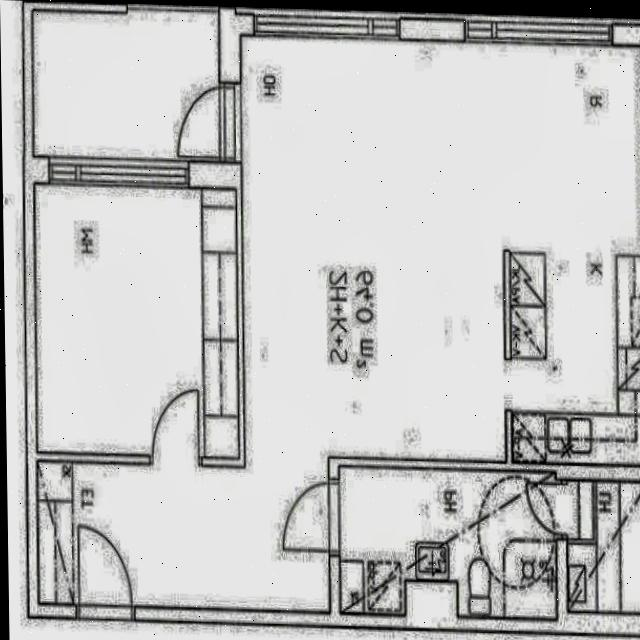room: (35, 182, 239, 461), (335, 466, 561, 618), (567, 481, 640, 613)
